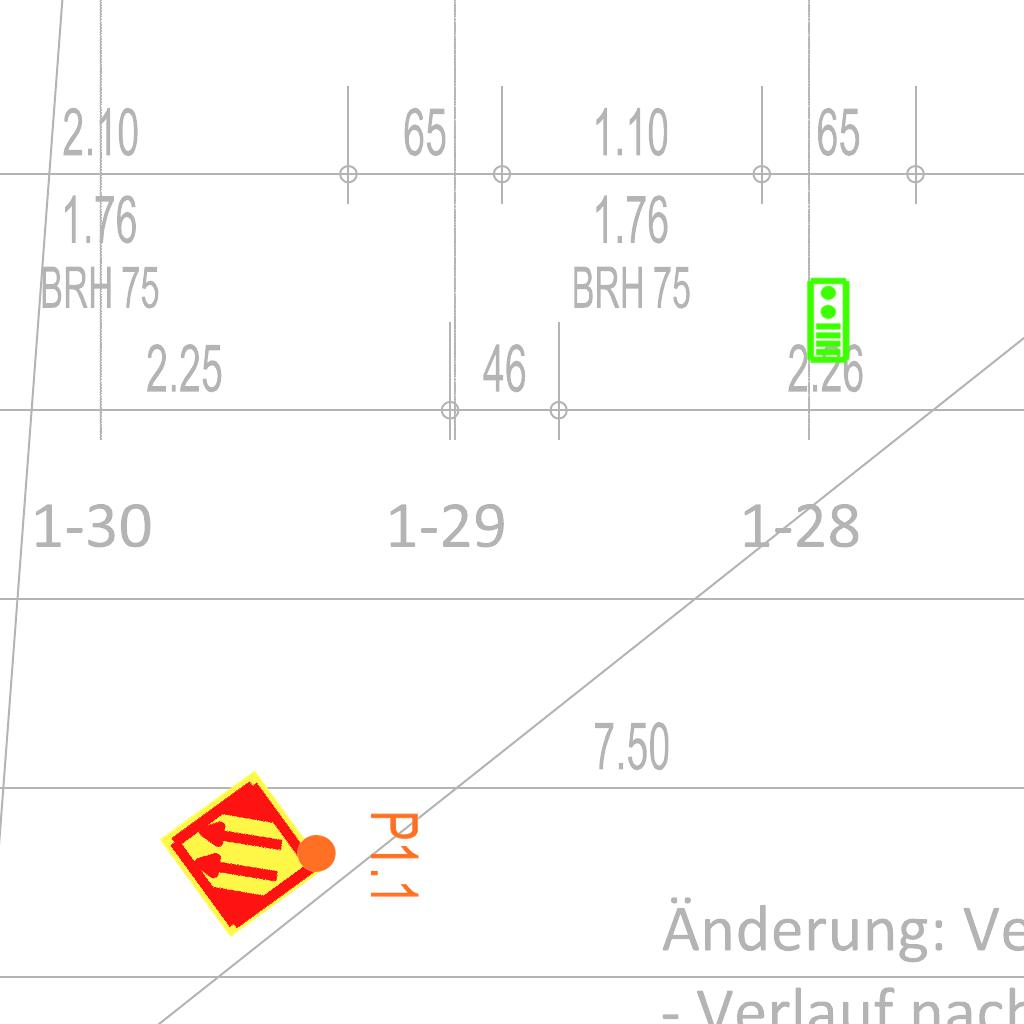ASR_Ansaugrauchmelder: (155, 766, 330, 941)
Downlight_LED_Einbauleuchten_Flur: (294, 810, 422, 903)
Gegensprechanlage_mit_Video: (804, 276, 851, 364)
